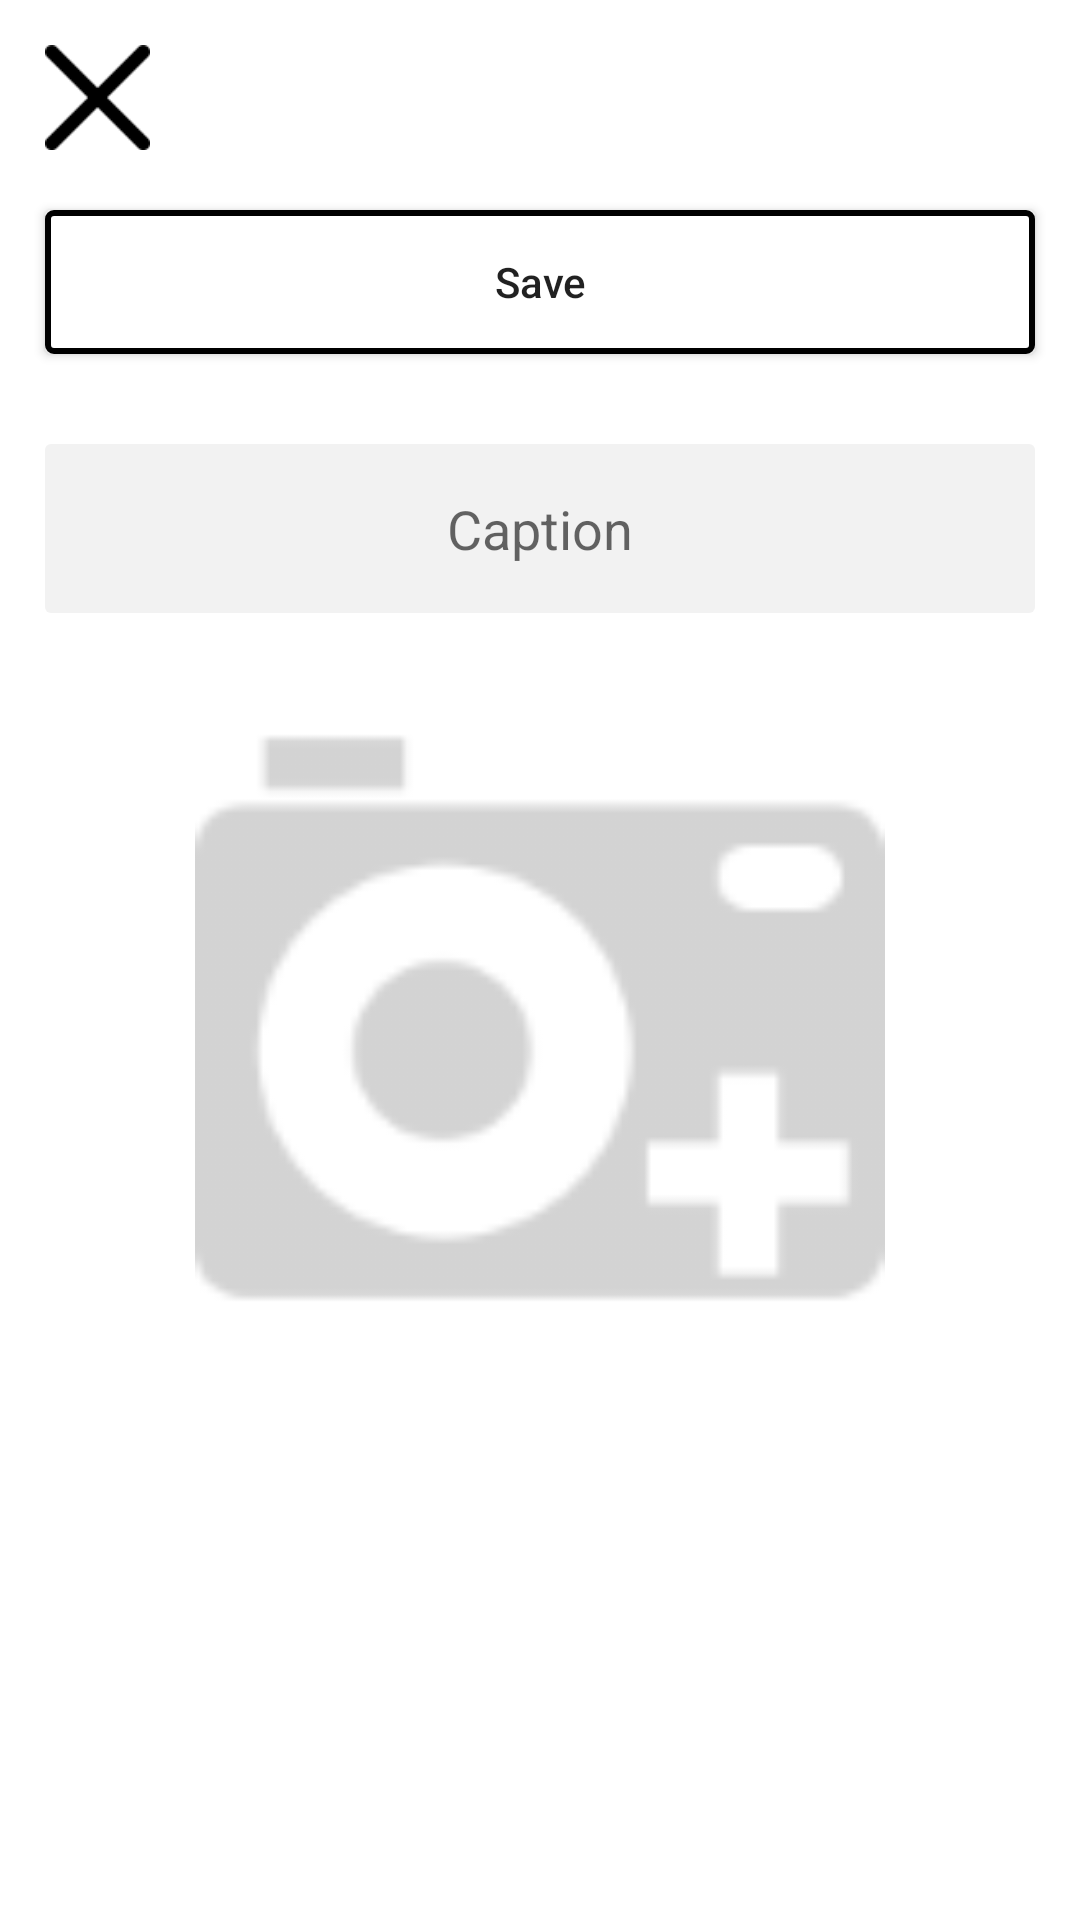

Locate icon controls on the screen. Image size 1080*1920, boxes as (x1, y1, x2, y2).
close: (45, 45, 150, 150)
